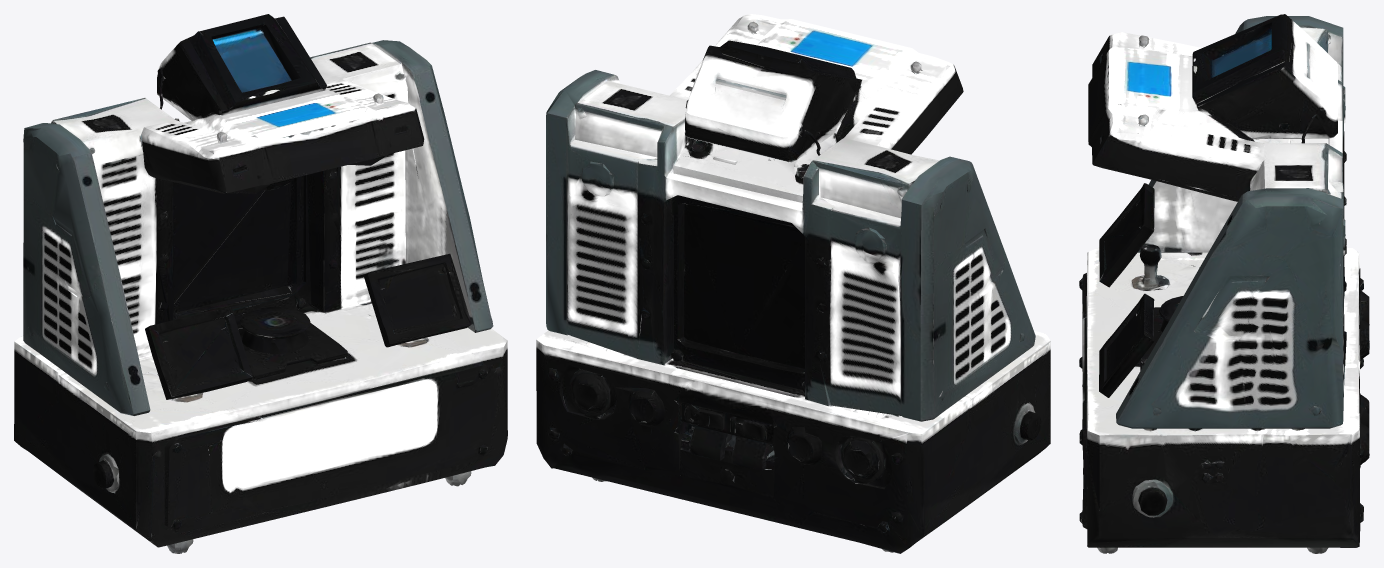
Rendered from Meshy_AI_Lab_Analyzer_balanced.glb.
3 renders of one model, left to right at view 1: azimuth 30°, elevation 25°; view 2: azimuth 150°, elevation 25°; view 3: azimuth 270°, elevation 25°, orthographic. The views are drawn at different scales.
Size of the model in its own units: 1.81 by 1.9 by 1.11.
Materials: 1 (1 with a texture image).
